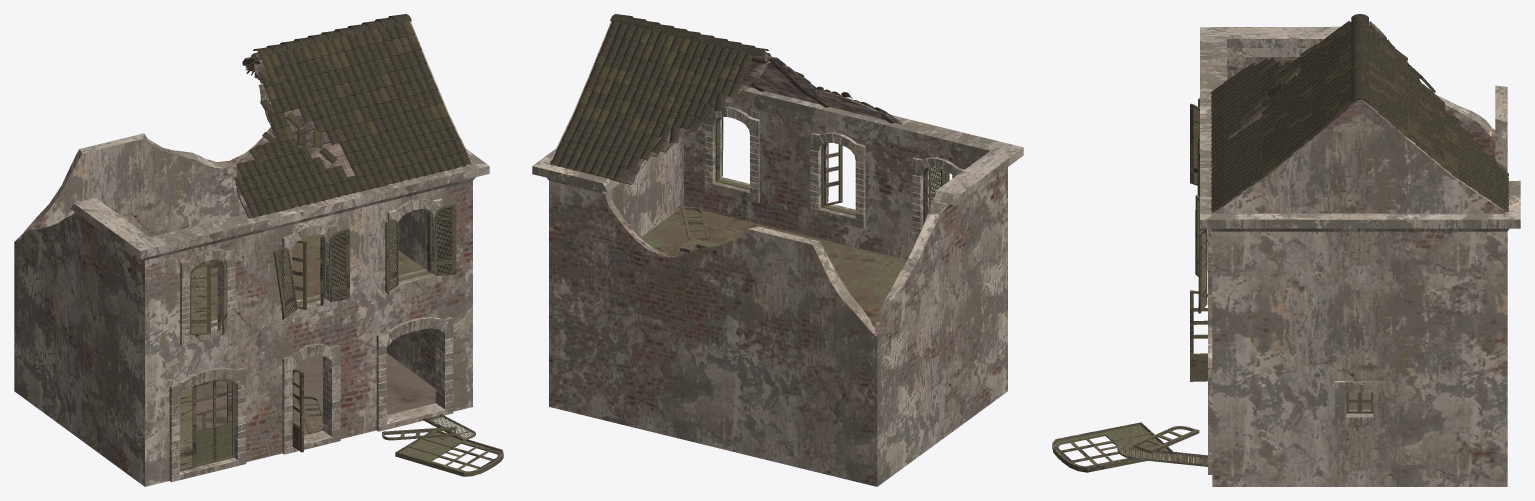
File: french_house_ww2.glb
The picture shows the model from 3 angles, left to right: view 1: azimuth 30°, elevation 25°; view 2: azimuth 150°, elevation 25°; view 3: azimuth 270°, elevation 25°; orthographic projection. The views are drawn at different scales.
Parts seen in each view (by area): view 1: house_Baked, roof_Baked, stones_Baked, wood_Baked, pavement_Baked, planks_Baked, first_floor_Baked; view 2: house_Baked, roof_Baked, stones_Baked, first_floor_Baked, planks_Baked, wood_Baked, beams_Baked; view 3: house_Baked, roof_Baked, stones_Baked, wood_Baked, planks_Baked.
Boxes of the visible parts, x1,y1,x2,y2 form: house_Baked: [14, 21, 472, 486]; roof_Baked: [234, 14, 471, 217]; stones_Baked: [71, 149, 489, 482]; wood_Baked: [179, 203, 503, 476]; pavement_Baked: [196, 353, 435, 435]; planks_Baked: [236, 50, 462, 218]; first_floor_Baked: [211, 234, 424, 321]; house_Baked: [549, 21, 1007, 486]; roof_Baked: [550, 14, 898, 181]; stones_Baked: [532, 87, 1023, 241]; first_floor_Baked: [640, 206, 906, 325]; planks_Baked: [559, 56, 902, 184]; wood_Baked: [679, 117, 953, 325]; beams_Baked: [651, 52, 894, 157]; house_Baked: [1212, 57, 1507, 486]; roof_Baked: [1211, 14, 1508, 212]; stones_Baked: [1200, 26, 1520, 474]; wood_Baked: [1052, 98, 1373, 472]; planks_Baked: [1219, 21, 1506, 171].
Size of the model in its own units: 8.29 by 7.83 by 8.51.
9 materials, 9 textured.
